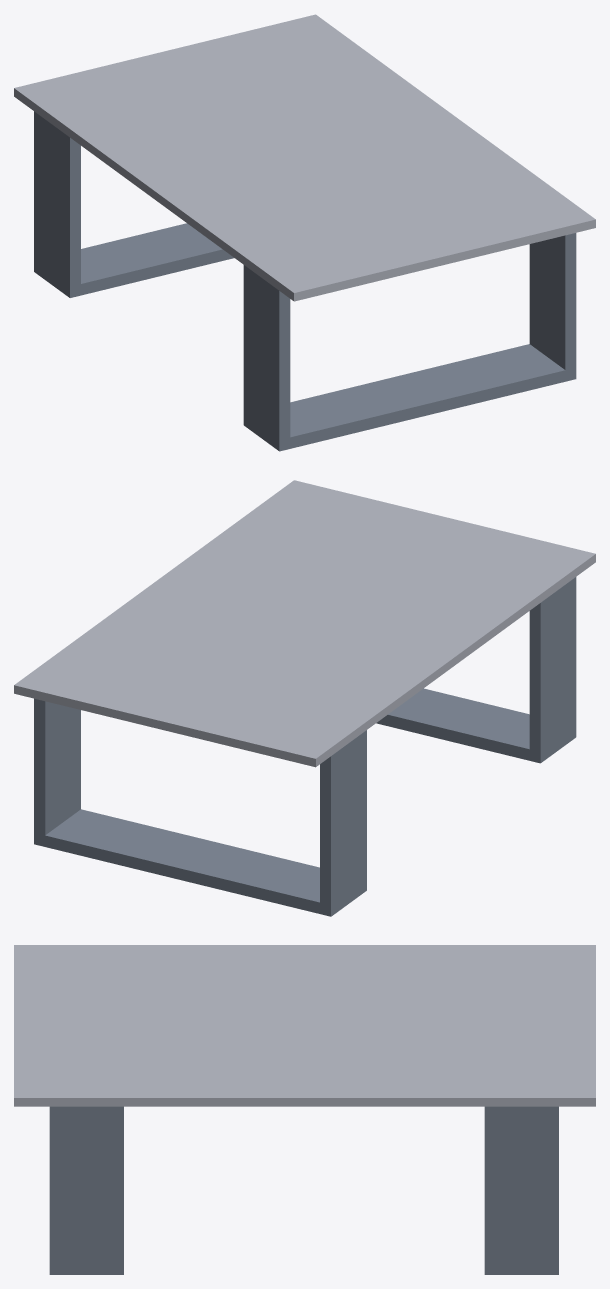
Rendered from TableBasse.fbx.
The picture shows the model from 3 angles, top to bottom: view 1: azimuth 30°, elevation 25°; view 2: azimuth 150°, elevation 25°; view 3: azimuth 270°, elevation 25°; orthographic projection. The views are drawn at different scales.
Parts seen in each view (by area): view 1: TableBasse; view 2: TableBasse; view 3: TableBasse.
Boxes of the visible parts, x1,y1,x2,y2 form: TableBasse: [14, 14, 595, 451]; TableBasse: [14, 480, 595, 916]; TableBasse: [14, 945, 595, 1274].
Size of the model in its own units: 274 by 149 by 440.
